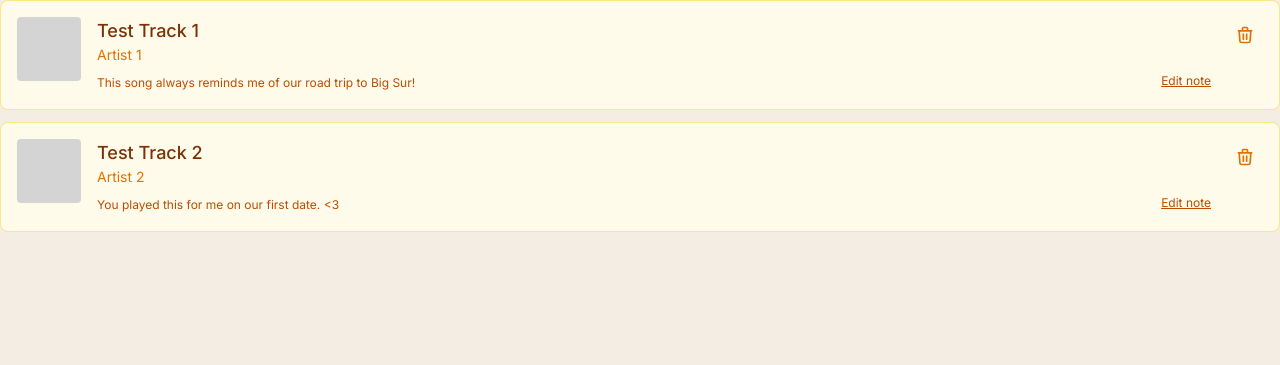
Test case: TrackList › Track Note Editing › allows editing multiple tracks independently
This screenshot has width=1280, height=365.
// Open editor for first track
What coordinates should you click on to do the following:
click the button with test id "edit-track-text-1"
I would click on:
 (1186, 81)
Its box is [1161,73,1211,89].
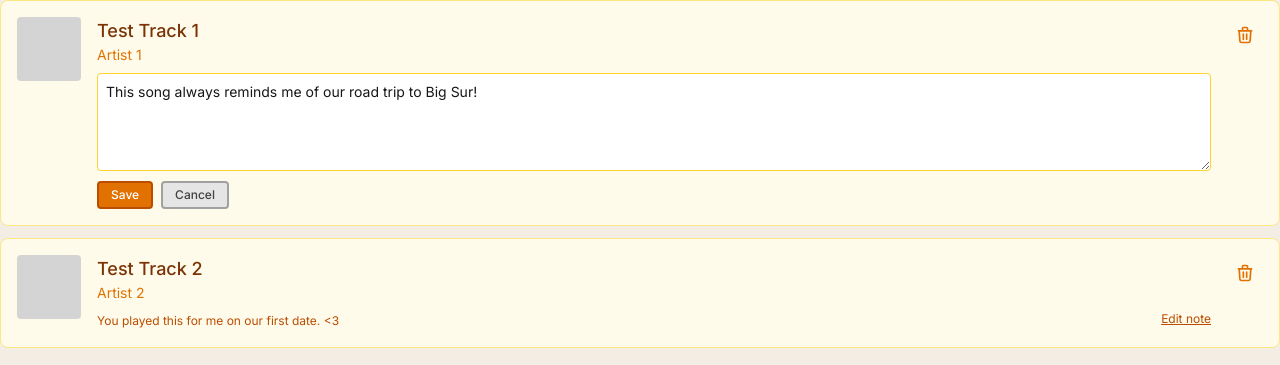
Result: the text box with test id "track-textarea-1" is shown at [97,73,1211,171]
// Open editor for second track
What coordinates should you click on to do the following:
click the button with test id "edit-track-text-2"
I would click on:
 (1186, 319)
Its box is [1161,311,1211,327].
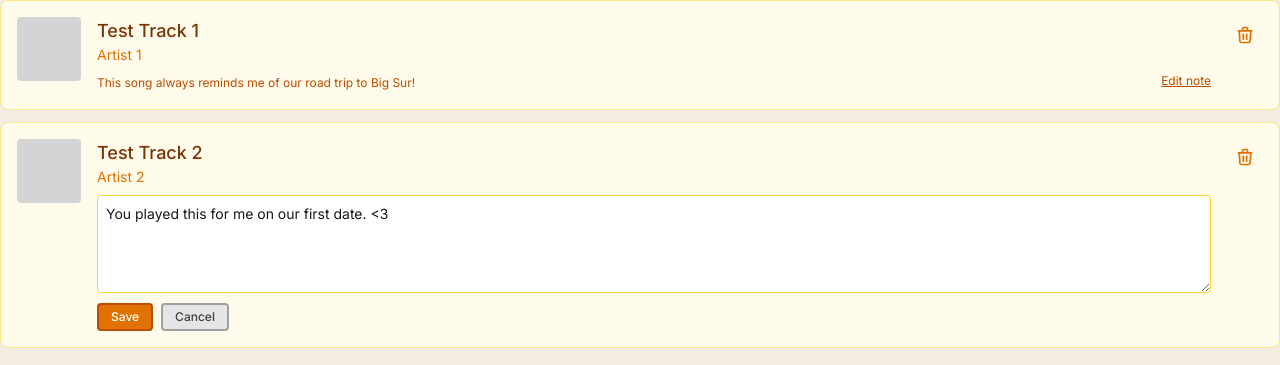
Result: the text box with test id "track-textarea-2" is shown at [97,195,1211,293]
Result: the text box with test id "track-textarea-1" is gone
